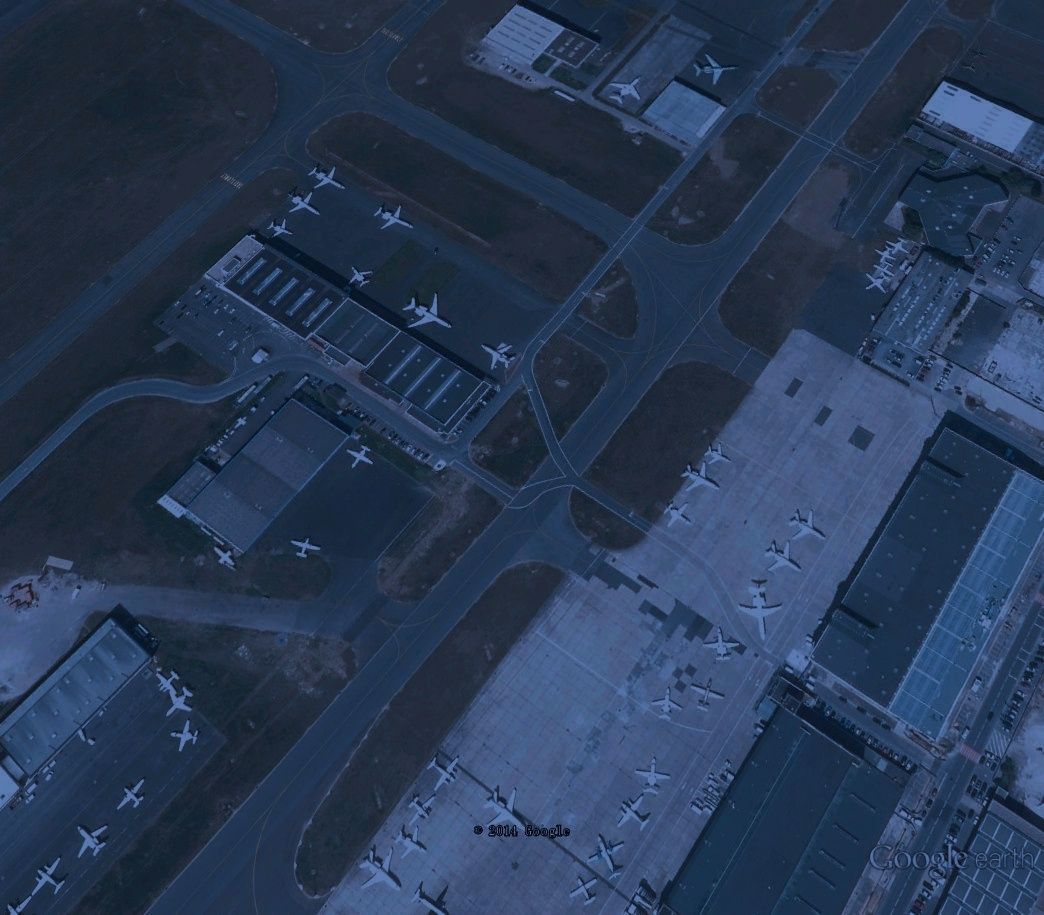aircraft: (737, 584, 785, 644), (479, 786, 531, 839), (355, 845, 405, 895), (402, 290, 458, 334), (583, 833, 627, 882), (690, 49, 744, 88), (28, 856, 71, 900), (632, 755, 673, 796), (701, 626, 744, 665), (424, 754, 463, 795), (74, 820, 113, 860), (647, 686, 689, 723), (690, 678, 730, 715), (617, 793, 650, 837), (391, 825, 430, 862), (306, 162, 348, 196), (167, 716, 203, 755), (763, 540, 802, 576), (282, 186, 323, 220), (787, 511, 830, 543), (679, 463, 723, 494), (371, 201, 416, 231), (478, 342, 520, 373), (410, 887, 456, 915), (607, 75, 643, 109), (567, 875, 601, 909), (118, 775, 148, 813), (405, 792, 437, 827), (164, 684, 195, 720), (661, 498, 695, 528), (289, 535, 326, 561), (344, 444, 375, 473), (347, 265, 375, 291), (155, 670, 183, 696), (701, 443, 731, 467), (864, 271, 892, 296), (265, 217, 296, 239), (211, 544, 239, 568), (883, 237, 912, 257), (870, 259, 899, 279), (874, 246, 897, 265)
